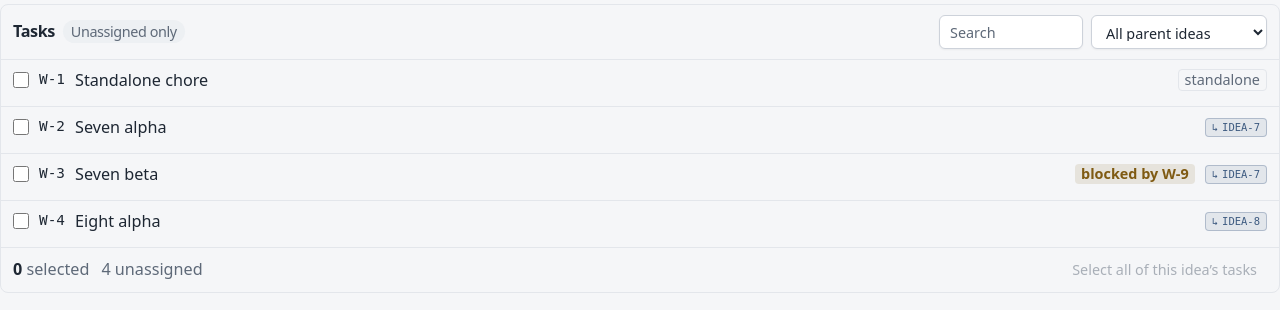
Test: SprintTaskPicker filters › says nothing matches when the search finds nothing
The image size is (1280, 310).
Type "zzz" into the field named "Search tasks" at x=1011, y=32, box [939,15,1083,49]
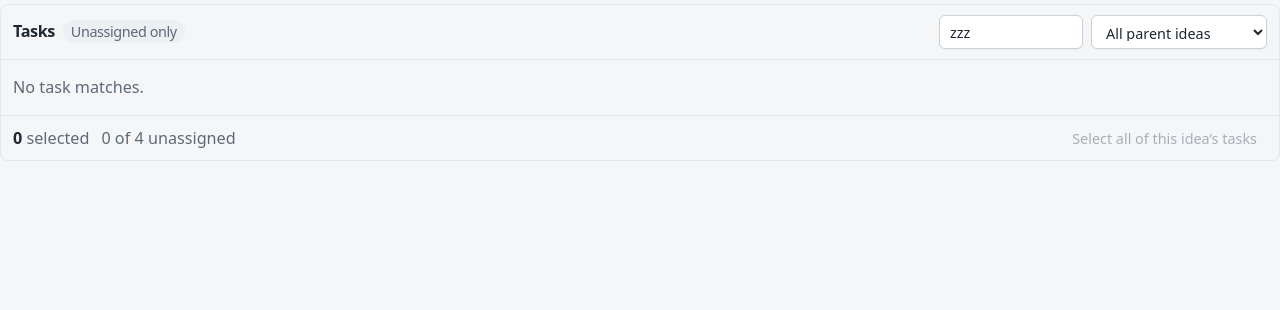
expect the list item "No task matches." is shown: met, box [13,76,144,98]
